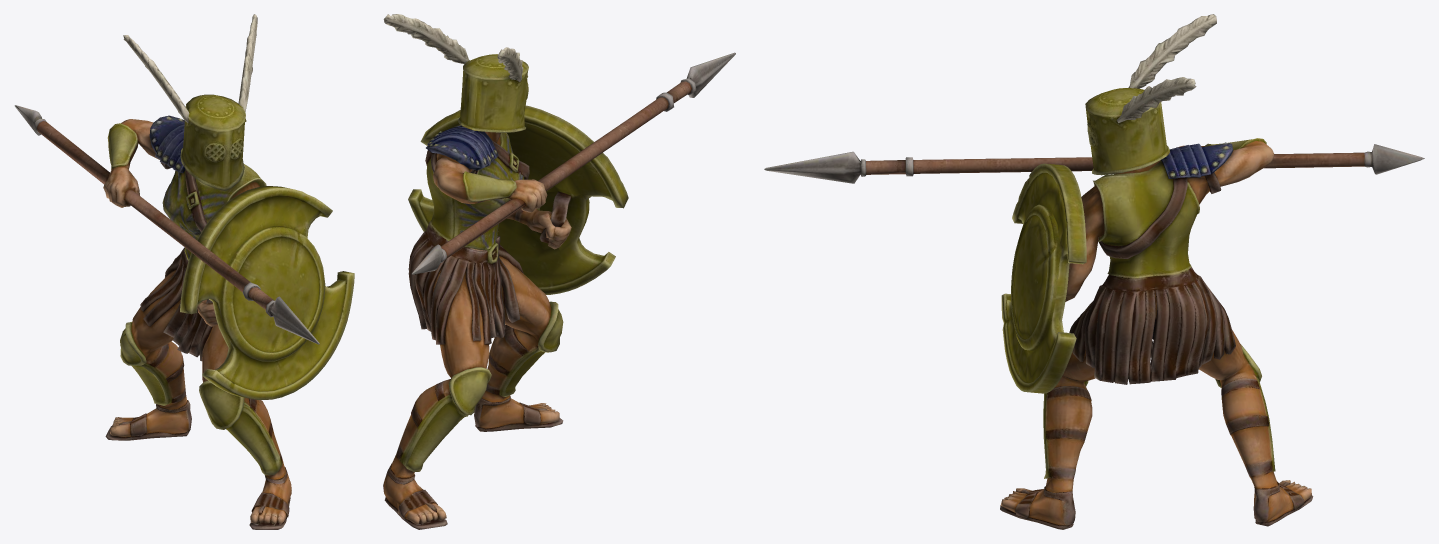
The model's file is MZ4250 - Gladiator Female 02.glb.
The picture shows the model from 3 angles, left to right: view 1: azimuth 30°, elevation 25°; view 2: azimuth 150°, elevation 25°; view 3: azimuth 270°, elevation 25°; orthographic projection. The views are drawn at different scales.
Parts seen in each view (by area): view 1: GladiatorFemale; view 2: GladiatorFemale; view 3: GladiatorFemale.
Part boxes in pixels (bbox=[...]): GladiatorFemale: bbox=[14, 14, 354, 529]; GladiatorFemale: bbox=[383, 14, 735, 529]; GladiatorFemale: bbox=[764, 14, 1424, 529].
Bounding box in the file's own units: 0.4645 × 1.03 × 1.31.
Materials: 1 (1 with a texture image).
